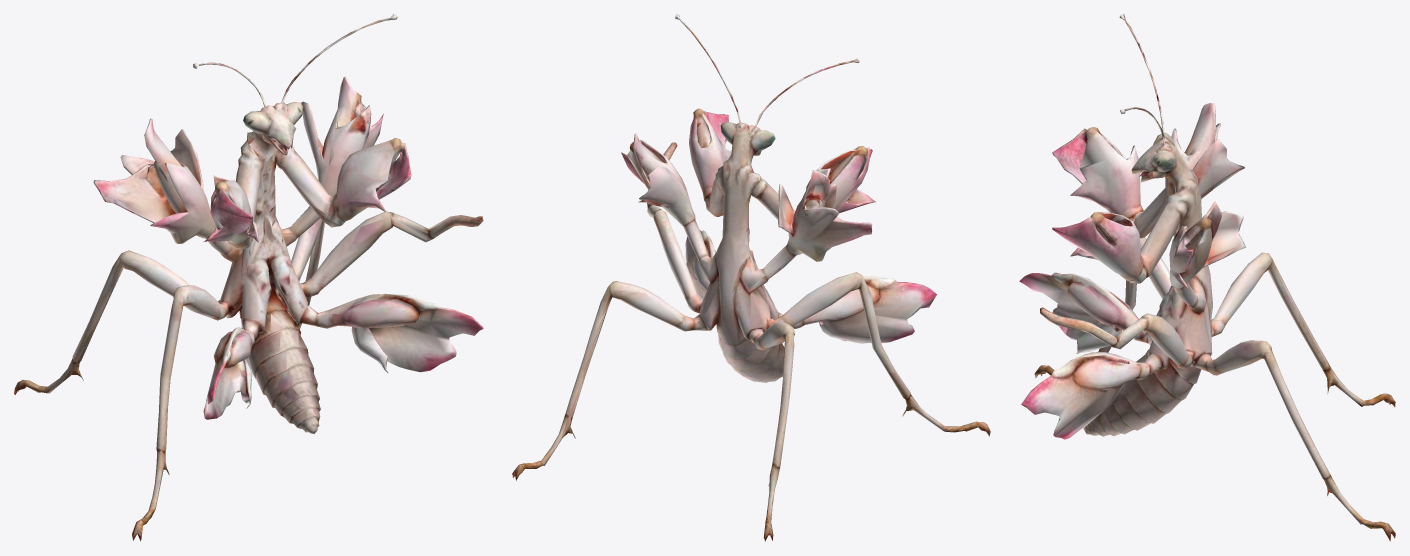
The model's file is mantis.glb.
The picture shows the model from 3 angles, left to right: view 1: azimuth 30°, elevation 25°; view 2: azimuth 150°, elevation 25°; view 3: azimuth 270°, elevation 25°; orthographic projection. The views are drawn at different scales.
Visible parts, largest first — view 1: mantis; view 2: mantis; view 3: mantis.
Part boxes in pixels (box(x1,y1,x2,y2)): mantis: box(14, 14, 483, 541); mantis: box(512, 14, 990, 541); mantis: box(1019, 14, 1395, 541).
Bounding box in the file's own units: 0.8757 × 1 × 0.8279.
1 material, 1 textured.
